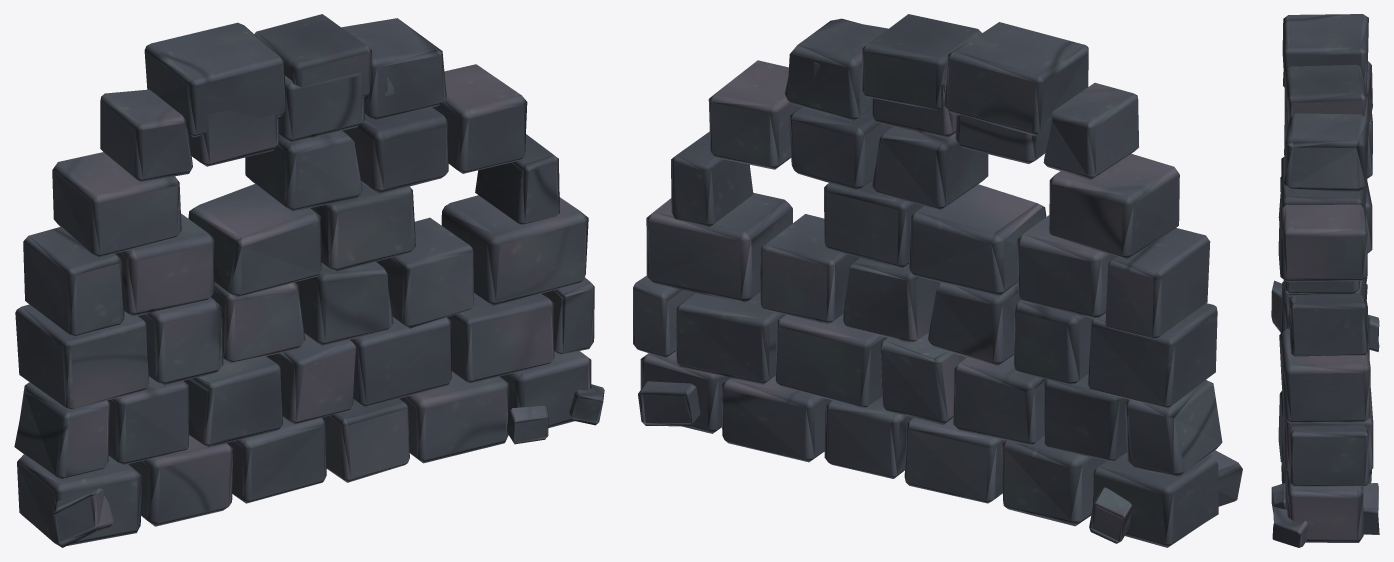
File: ruin_wall_tall_a.glb
3 renders of one model, left to right at view 1: azimuth 30°, elevation 25°; view 2: azimuth 150°, elevation 25°; view 3: azimuth 270°, elevation 25°, orthographic. The views are drawn at different scales.
Visible parts, largest first — view 1: ruin_wall_tall_a; view 2: ruin_wall_tall_a; view 3: ruin_wall_tall_a.
Part boxes in pixels (x1,y1,x2,y2): ruin_wall_tall_a: (14,14,604,547); ruin_wall_tall_a: (633,14,1242,547); ruin_wall_tall_a: (1271,14,1379,547).
Bounding box in the file's own units: 4 × 3 × 0.7919.
1 material, 1 textured.
